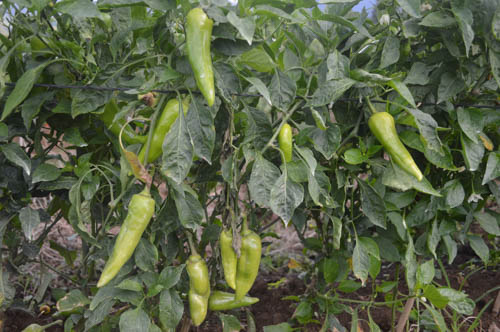ChiliPepper: (92, 197, 155, 290), (371, 113, 425, 183), (136, 100, 192, 163), (186, 7, 219, 100), (231, 234, 266, 297), (103, 103, 147, 145), (216, 230, 234, 288), (207, 292, 262, 310), (187, 255, 211, 292), (183, 288, 207, 324), (278, 125, 295, 163)
